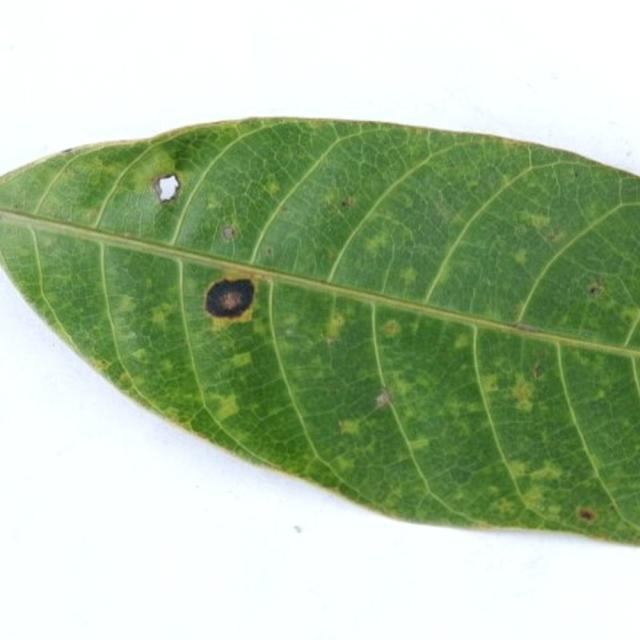Mango: (0, 118, 639, 544)
Powdery_Mildew: (125, 151, 176, 192), (369, 311, 410, 345), (339, 409, 368, 440), (511, 377, 536, 411), (212, 396, 242, 423), (443, 397, 477, 419), (433, 195, 458, 223), (528, 463, 561, 484), (324, 311, 346, 342), (519, 209, 550, 229), (393, 378, 420, 398), (478, 373, 500, 394), (115, 295, 138, 315), (363, 234, 387, 253), (504, 460, 528, 479), (510, 300, 530, 322), (492, 497, 516, 514), (398, 265, 418, 285), (620, 307, 640, 327), (149, 307, 170, 326), (333, 455, 356, 472), (375, 388, 393, 409), (230, 352, 252, 369), (407, 436, 430, 452), (510, 247, 529, 266), (163, 406, 184, 423), (204, 193, 223, 211), (453, 333, 472, 350), (414, 374, 434, 390), (131, 347, 149, 363), (396, 192, 413, 208), (282, 312, 300, 327), (91, 358, 110, 372), (210, 320, 230, 333), (264, 181, 281, 196), (117, 371, 133, 386), (159, 359, 174, 374), (499, 174, 514, 189), (545, 228, 561, 242), (40, 235, 56, 248), (324, 248, 339, 261), (341, 195, 355, 208), (593, 389, 606, 401)
